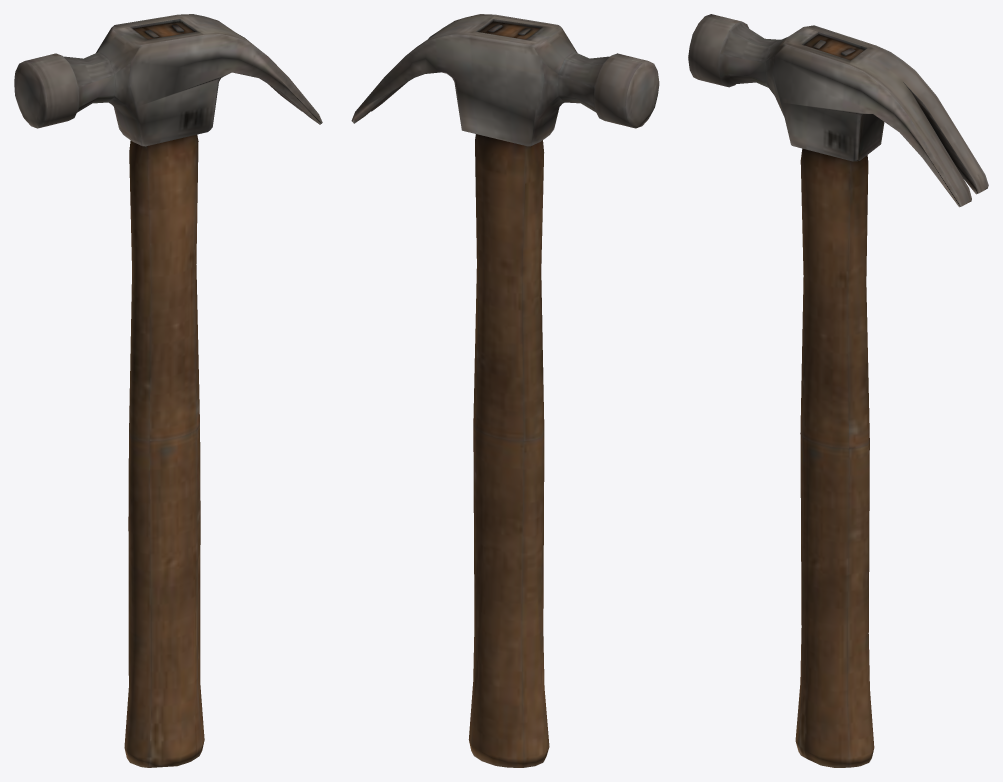
Rendered from wooden_hammer_01.glb.
3 renders of one model, left to right at view 1: azimuth 30°, elevation 25°; view 2: azimuth 150°, elevation 25°; view 3: azimuth 330°, elevation 25°, orthographic. The views are drawn at different scales.
Visible parts, largest first — view 1: wooden_hammer_01; view 2: wooden_hammer_01; view 3: wooden_hammer_01.
Boxes of the visible parts, left/top/right/bottom form: wooden_hammer_01: left=14, top=14, right=322, bottom=767; wooden_hammer_01: left=351, top=14, right=659, bottom=767; wooden_hammer_01: left=688, top=14, right=988, bottom=767.
Bounding box in the file's own units: 0.1118 × 0.279 × 0.0234.
1 material, 1 textured.
